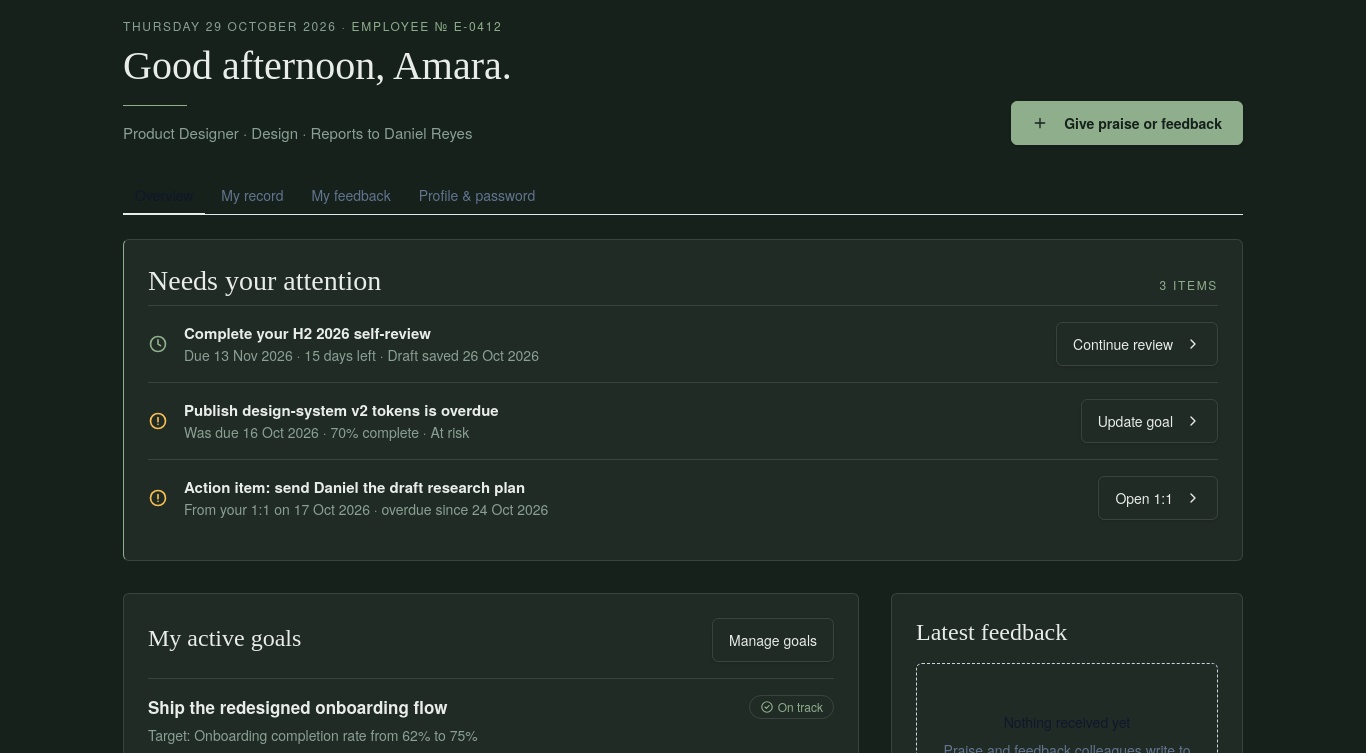
Test: Praise composer › [AC-080] shows the self-recipient message on the recipient field
Click the button "Give praise or feedback" at point(1127, 122), box 1011,100 -> 1243,144
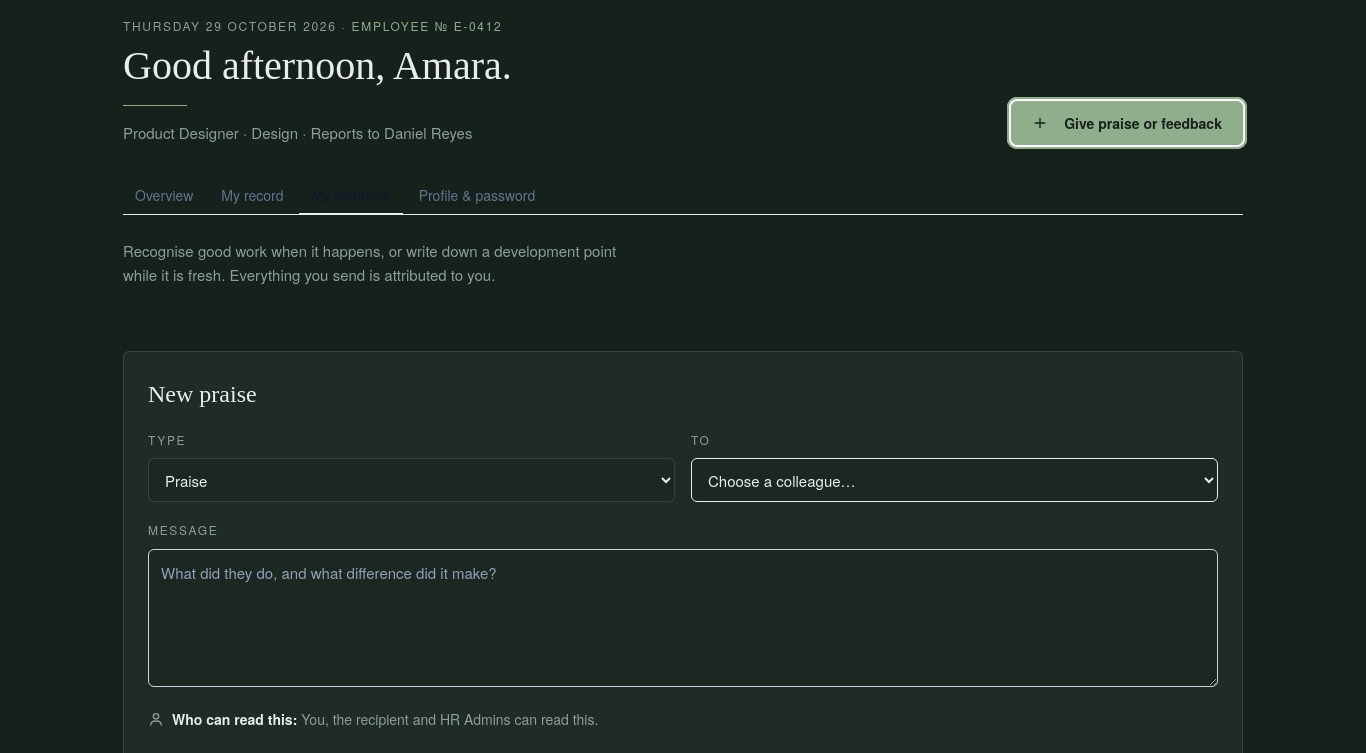
Select "Priya Nair — PM" in the dropdown with id "fb-to" at point(954, 480), box 691,458 -> 1218,502
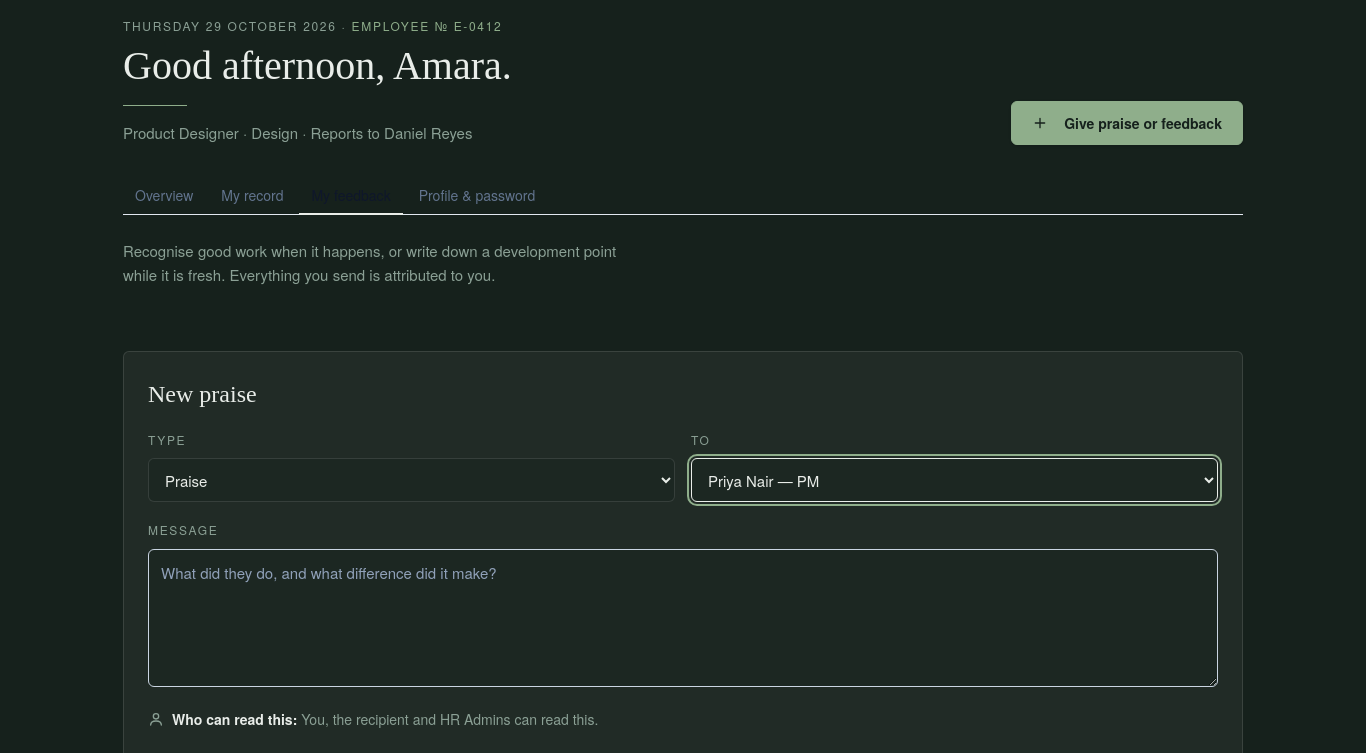
Type "Hi" into the text box labelled "Message" at point(683, 618), box 148,548 -> 1218,687
(page scrolled)
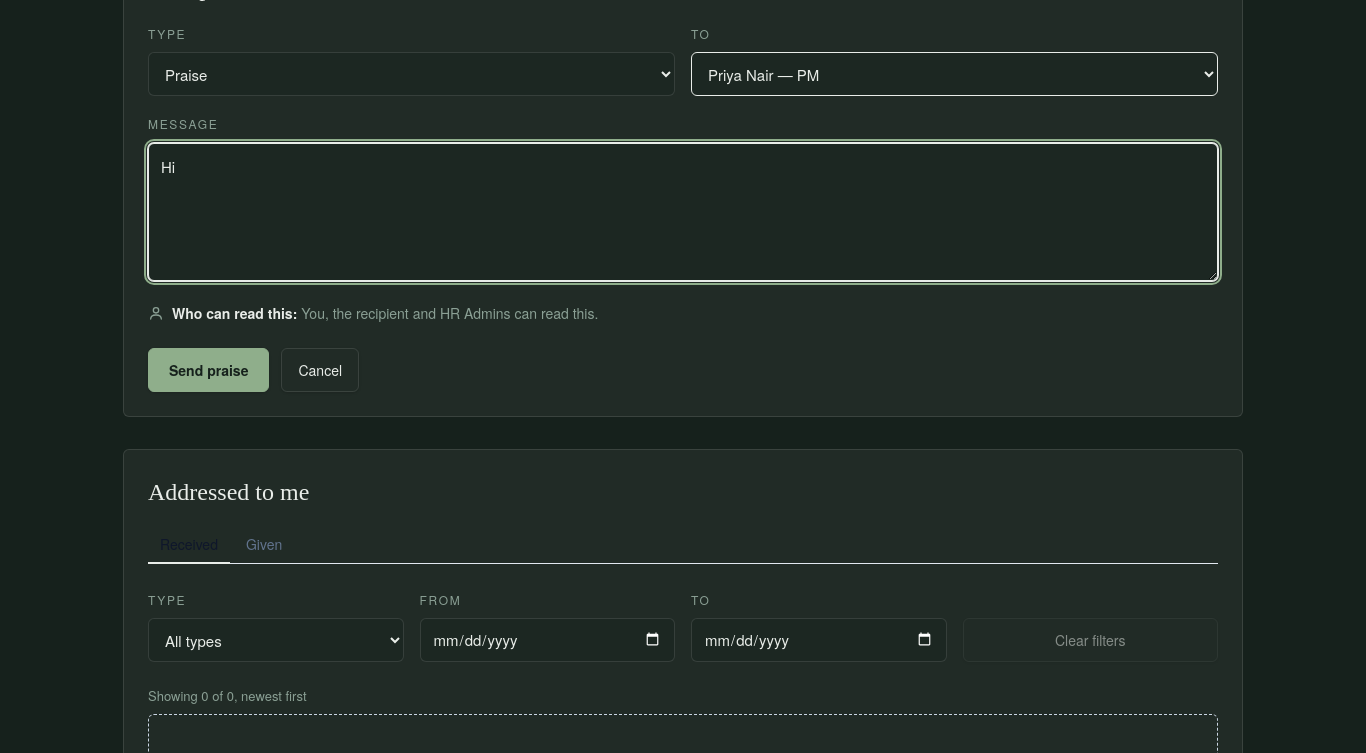
Click the button "Send praise" at point(209, 370), box 148,348 -> 270,392
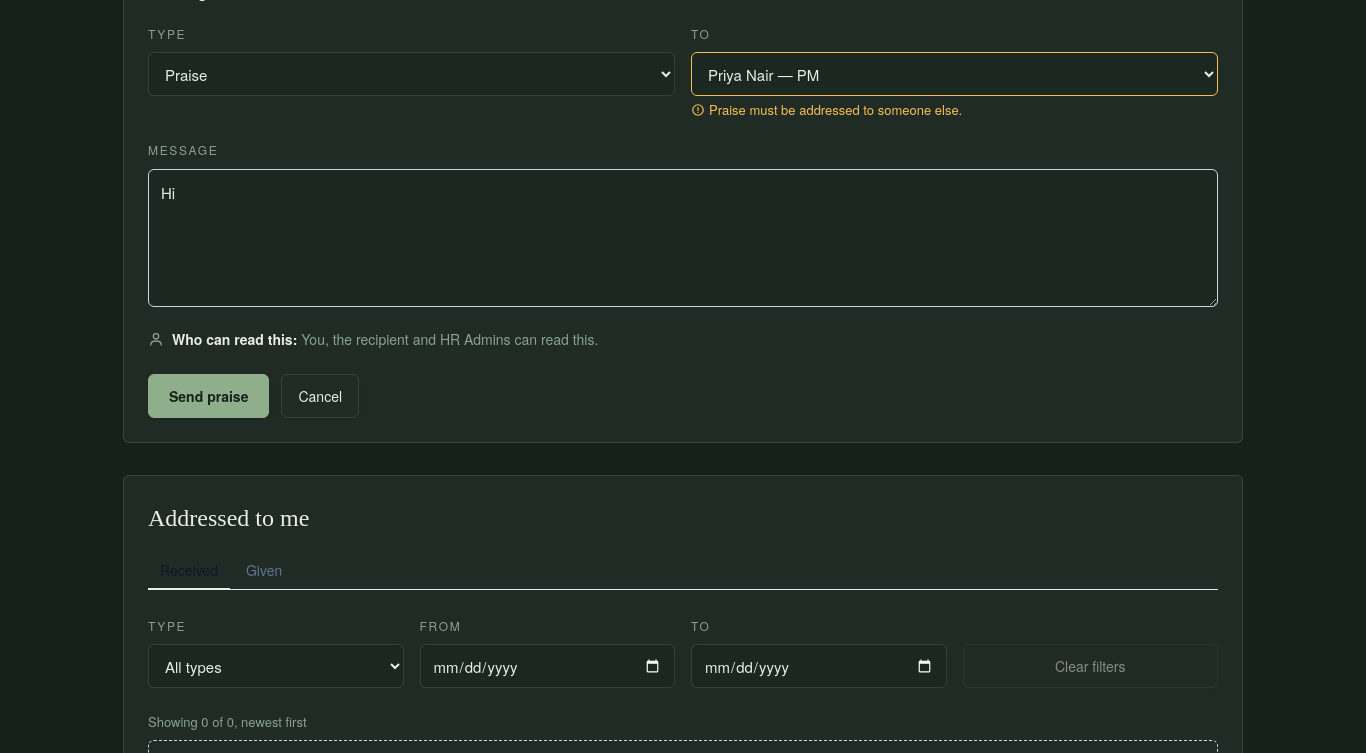
Now the text "Praise must be addressed to someone else." is shown, box 691,100 -> 962,120
